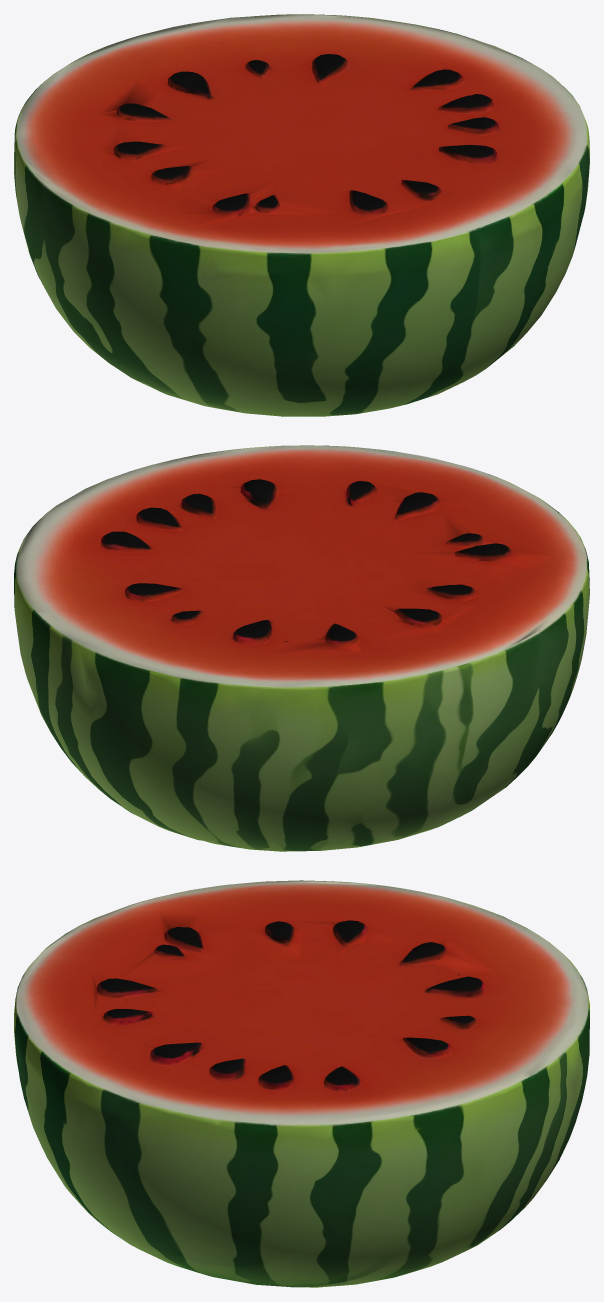
Rendered from watermelon.glb.
3 views of the same model, one above another, from view 1: azimuth 30°, elevation 25°; view 2: azimuth 150°, elevation 25°; view 3: azimuth 270°, elevation 25° (orthographic).
Visible parts, largest first — view 1: material; view 2: material; view 3: material.
Part boxes in pixels (bbox=[...]): material: bbox=[14, 14, 589, 416]; material: bbox=[14, 445, 589, 851]; material: bbox=[14, 880, 589, 1287].
Bounding box in the file's own units: 1.11 × 0.4915 × 1.11.
1 material, 1 textured.
